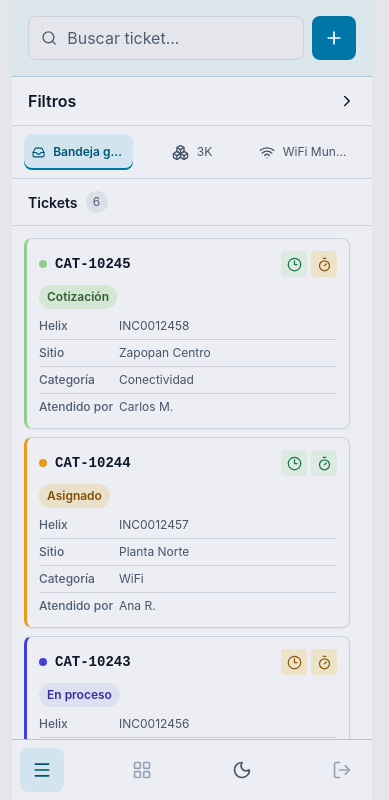
Test: Sidebar › shows an empty panel when the user has no additional capabilities
(page scrolled)
Step 1. Click the button named "Desplegar menú" → coordinates (42, 770), box [20, 748, 64, 792]
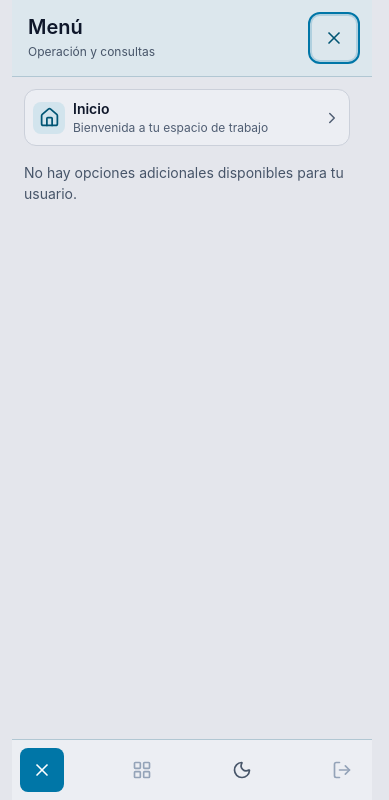
Now the text "No hay opciones adicionales disponibles para tu usuario." is shown, box [24, 162, 350, 204]
